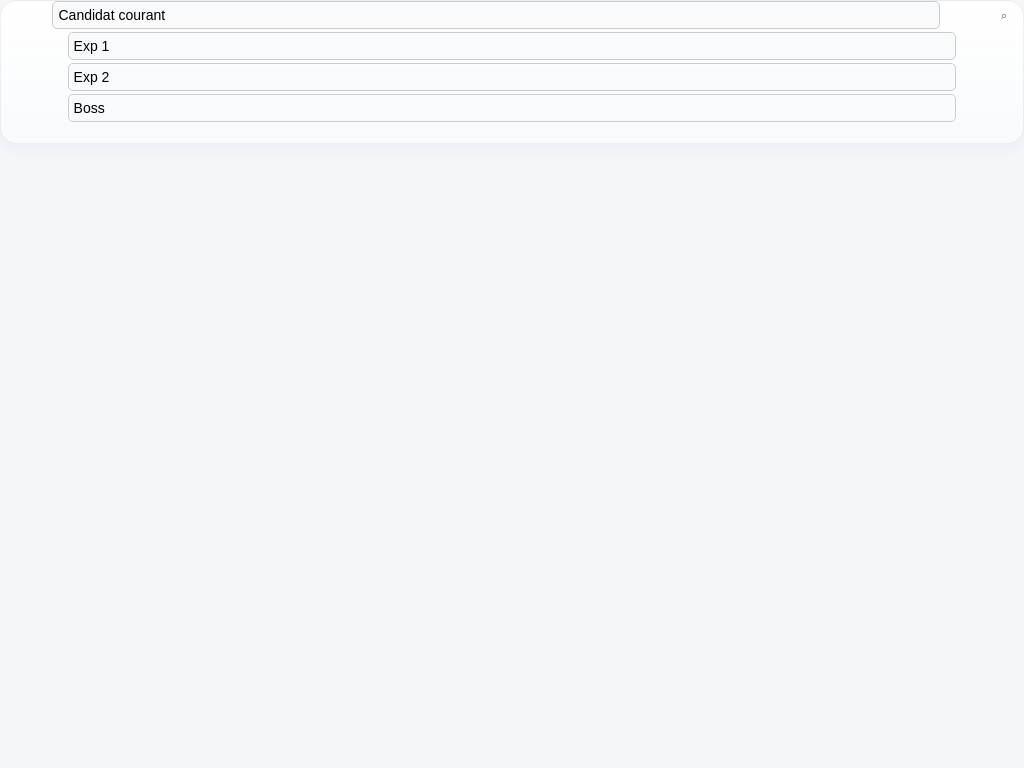
it: TpiCard editing overlay › retire un TPI de la liste après attribution
The image size is (1024, 768).
Click the button "⌕": [1004, 15] box [992, 3, 1016, 27]
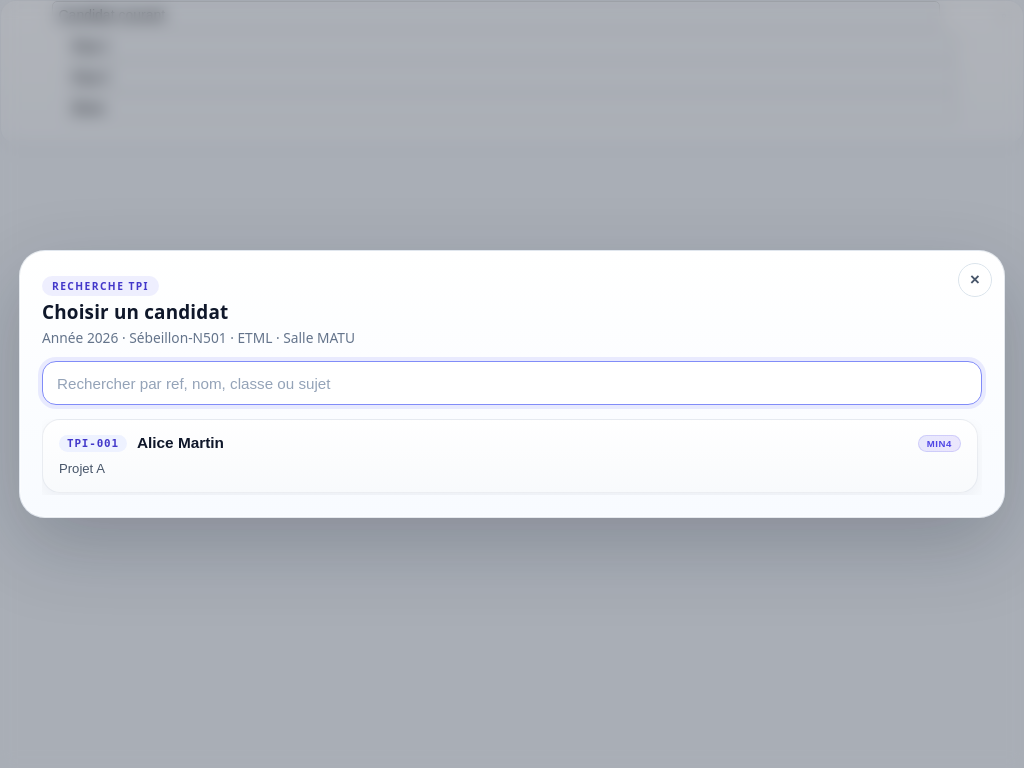
Check: the dialog named "Sélectionner un TPI" is shown, box [19, 250, 1005, 518]
Check: the button "TPI-001 Alice Martin MIN4 Projet A" is shown
Click the button "TPI-001 Alice Martin MIN4 Projet A": [93, 443] box [42, 419, 978, 493]
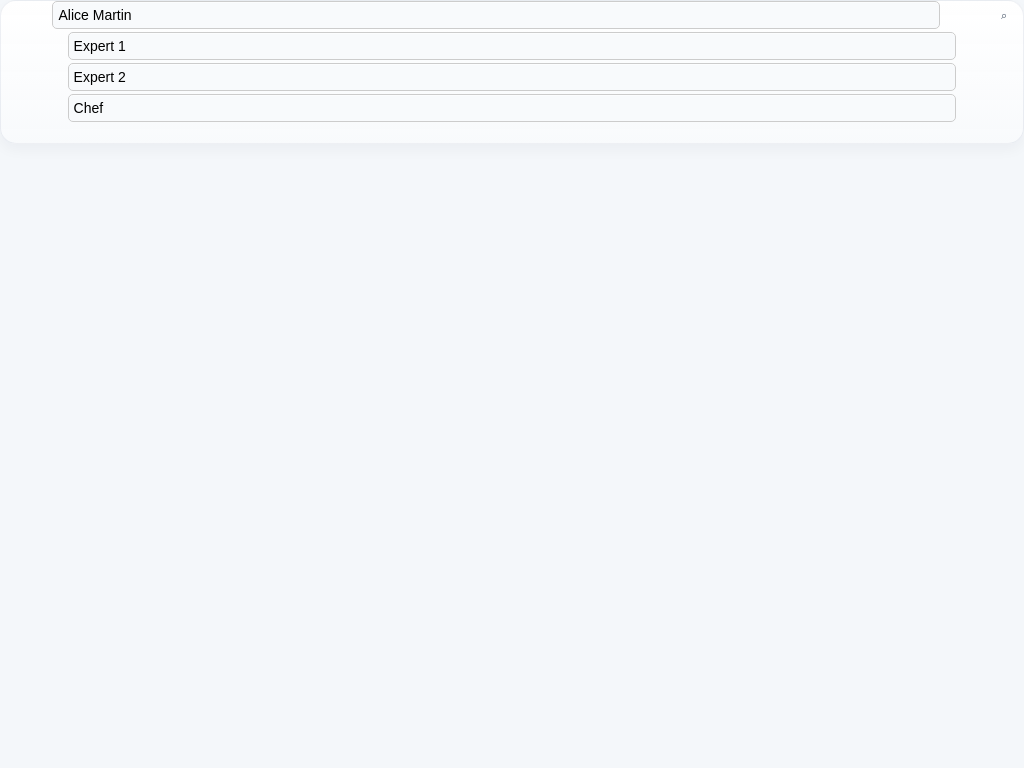
Click the button "⌕": [1004, 15] box [992, 3, 1016, 27]
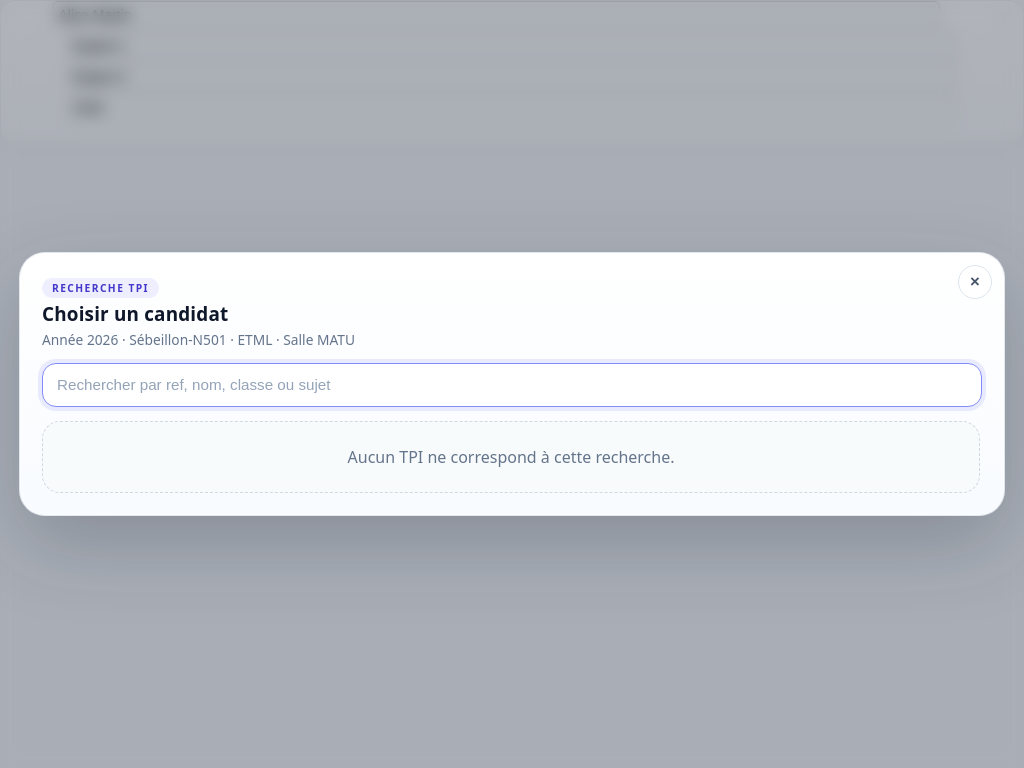
Check: the button "TPI-001" is not shown
Check: the dialog named "Sélectionner un TPI" is shown, box [19, 252, 1005, 516]
Check: the text "Aucun TPI ne correspond à cette recherche." is shown, box [42, 421, 980, 493]
